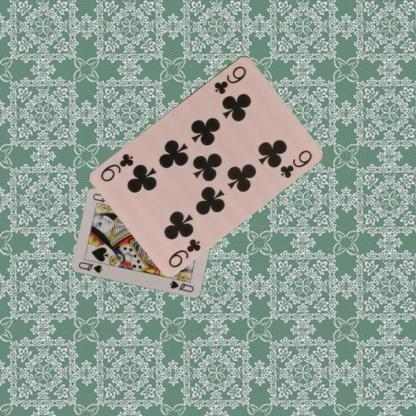9c: (211, 62, 248, 96), (165, 235, 202, 269)
Qs: (76, 260, 103, 274)
